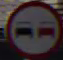No overtake: (4, 3, 59, 52)
